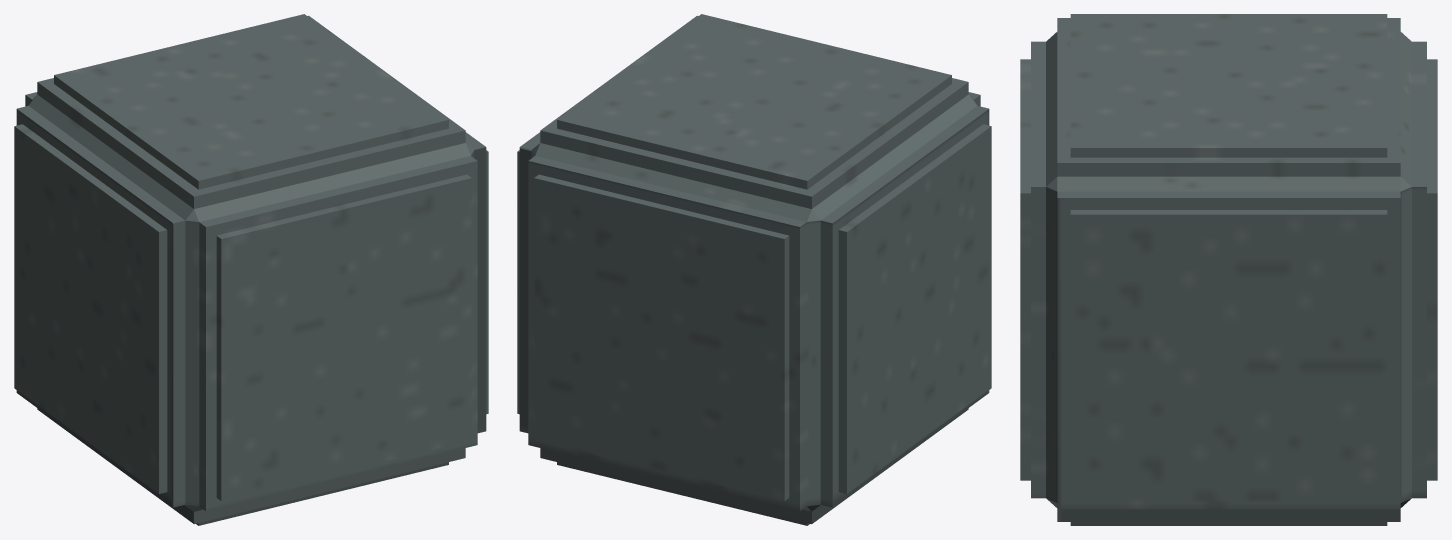
File: Stone 3.fbx
The picture shows the model from 3 angles, left to right: view 1: azimuth 30°, elevation 25°; view 2: azimuth 150°, elevation 25°; view 3: azimuth 270°, elevation 25°; orthographic projection. The views are drawn at different scales.
Parts seen in each view (by area): view 1: Stone 3; view 2: Stone 3; view 3: Stone 3.
Part boxes in pixels (<box>): Stone 3: <box>14,14,488,525</box>; Stone 3: <box>517,14,991,525</box>; Stone 3: <box>1020,14,1437,525</box>.
Size of the model in its own units: 73.05 by 73.05 by 73.05.
1 material, 1 textured.
